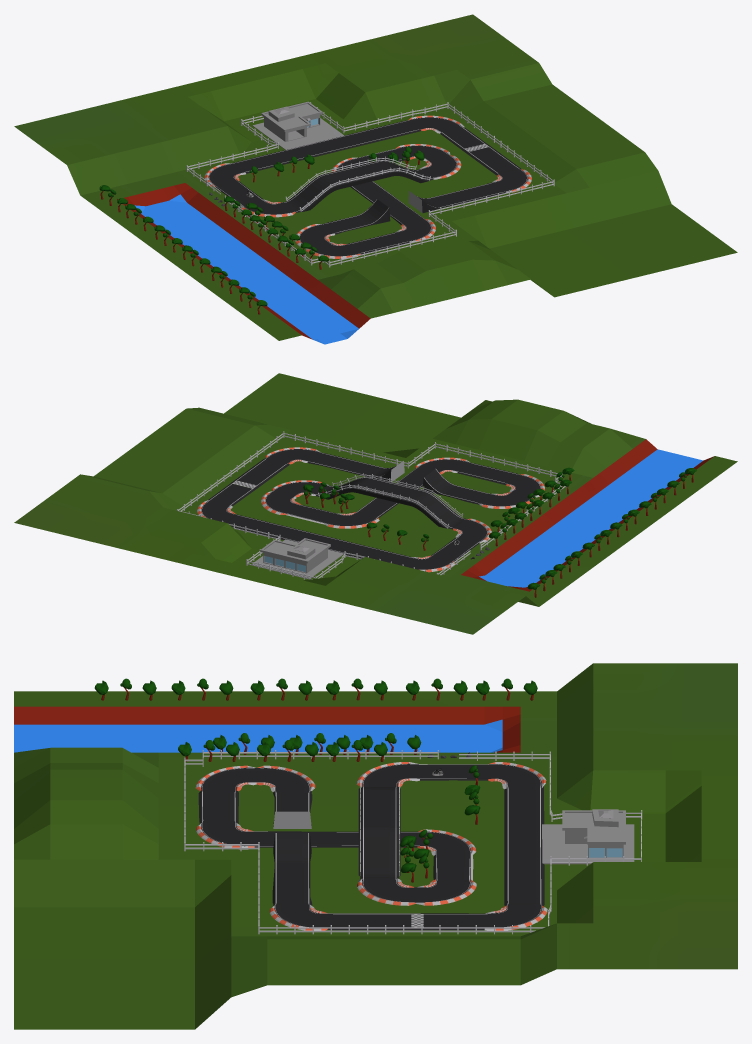
The model's file is track.fbx.
3 views of the same model, one above another, from view 1: azimuth 30°, elevation 25°; view 2: azimuth 150°, elevation 25°; view 3: azimuth 270°, elevation 25° (orthographic). The views are drawn at different scales.
Visible parts, largest first — view 1: Terrain, Track, Fence_scene, Tree, Police_Station; view 2: Terrain, Track, Fence_scene, Tree, Police_Station; view 3: Terrain, Track, Tree, Fence_scene, Police_Station.
Boxes of the visible parts, x1,y1,x2,y2 form: Terrain: (14,14,737,344); Track: (204,115,531,258); Fence_scene: (186,102,554,267); Tree: (99,146,424,314); Police_Station: (252,101,344,149); Terrain: (14,373,737,634); Track: (197,447,544,572); Fence_scene: (177,431,566,579); Tree: (303,467,696,597); Police_Station: (252,538,343,578); Terrain: (14,663,737,1029); Track: (195,762,547,930); Tree: (94,678,537,882); Fence_scene: (184,750,642,934); Police_Station: (542,809,634,864).
Bounding box in the file's own units: 16274 × 1550 × 16274.
1 material, 1 textured.
